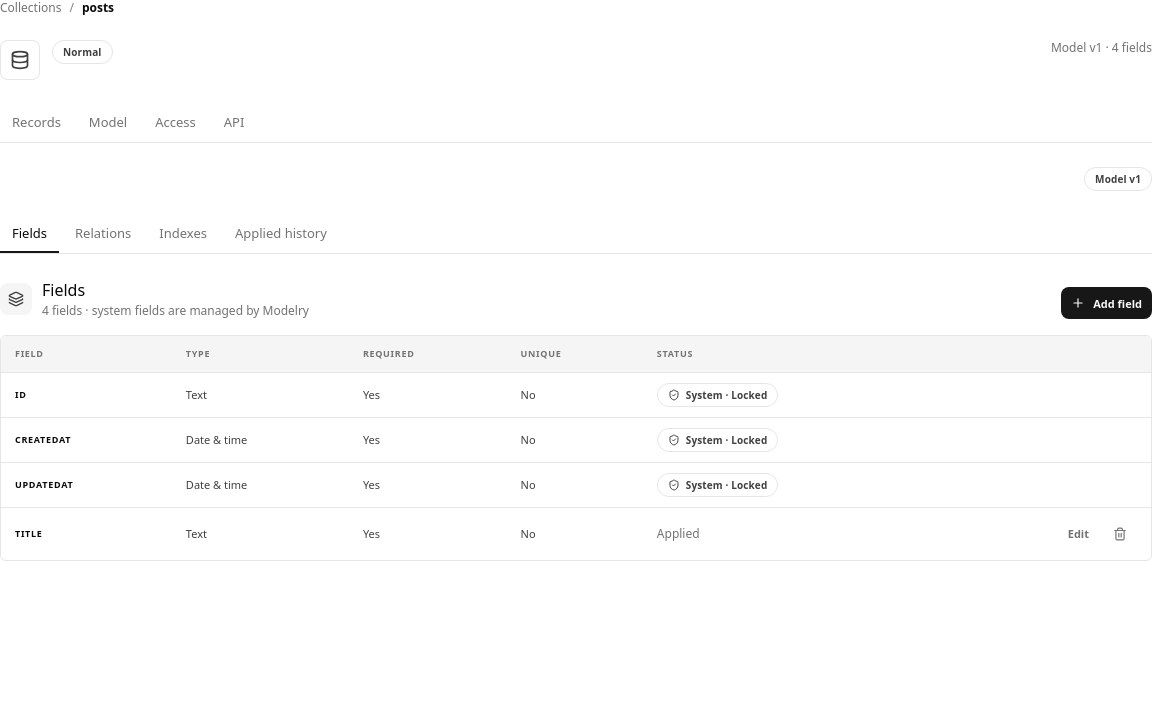
Collection schema workflow › keeps system Fields locked, stages a durable edit, previews risk in place, and applies it
Check: the text "System · Locked" is shown 3 times, box [657,383,778,407]; [657,428,778,452]; [657,473,778,497]
Step 1. Click the button "Add field" → (1107, 303), box [1061,287,1151,319]
(page scrolled)
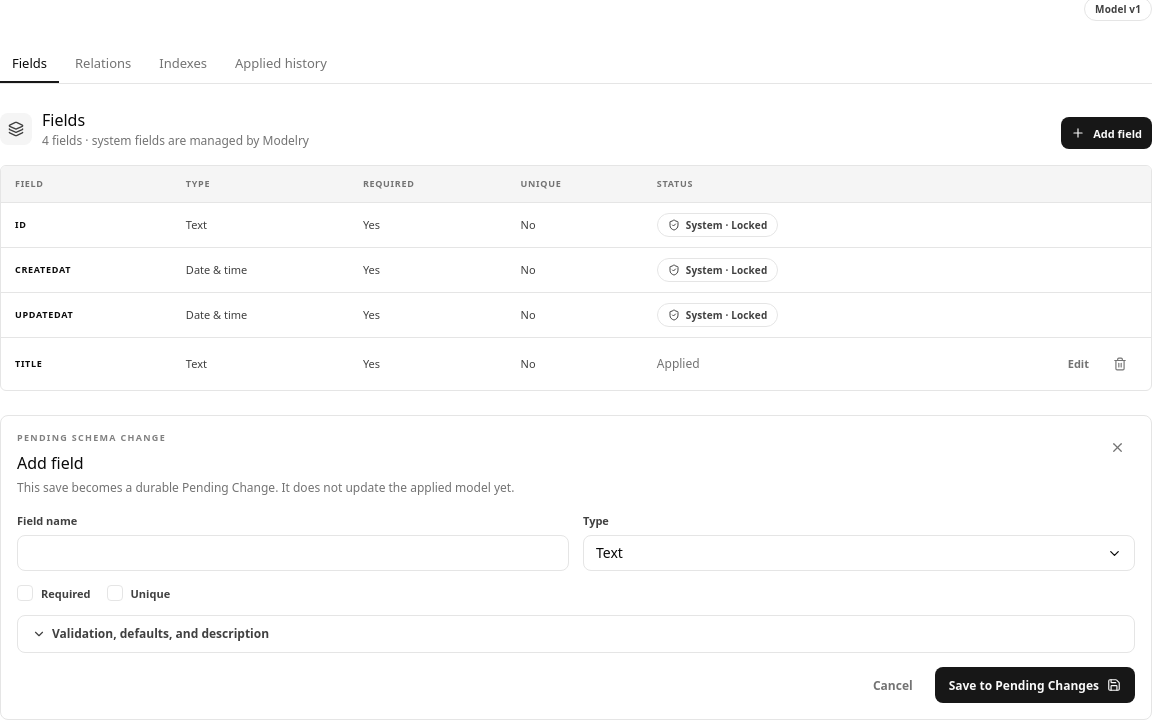
Step 2. Type "subtitle" into the field labelled "Field name" → (293, 553), box [17,535,569,571]
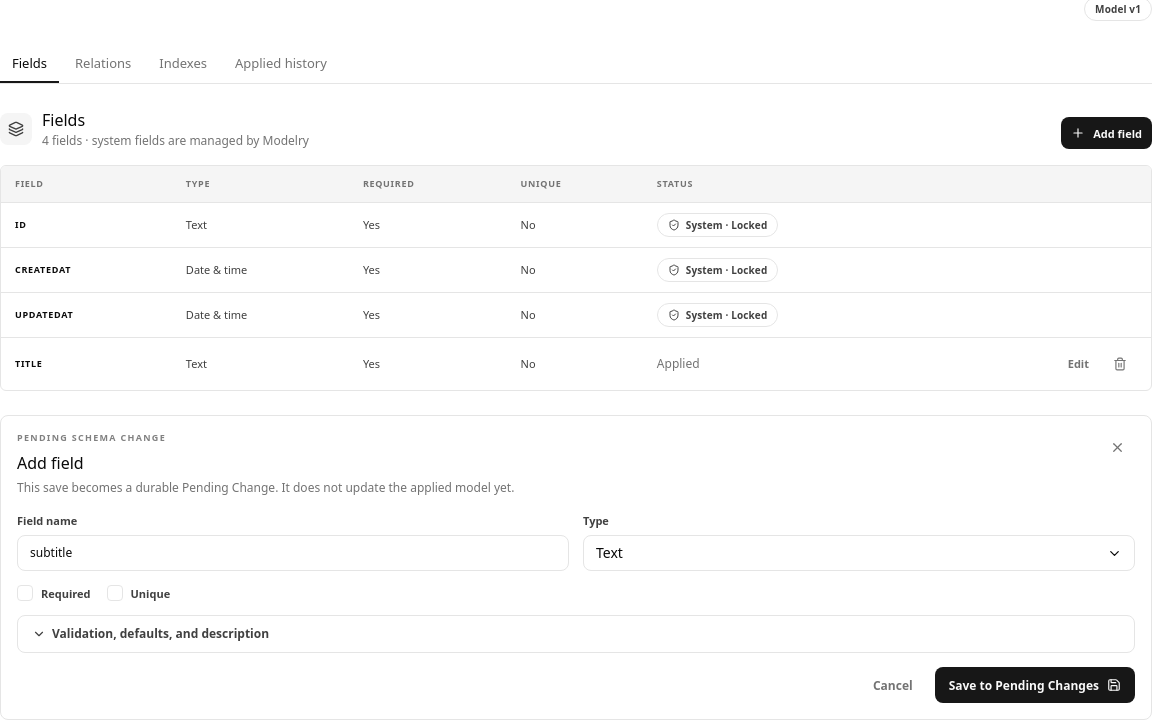
Step 3. Click the button "Save to Pending Changes" → (1035, 685), box [935,667,1135,703]
(page scrolled)
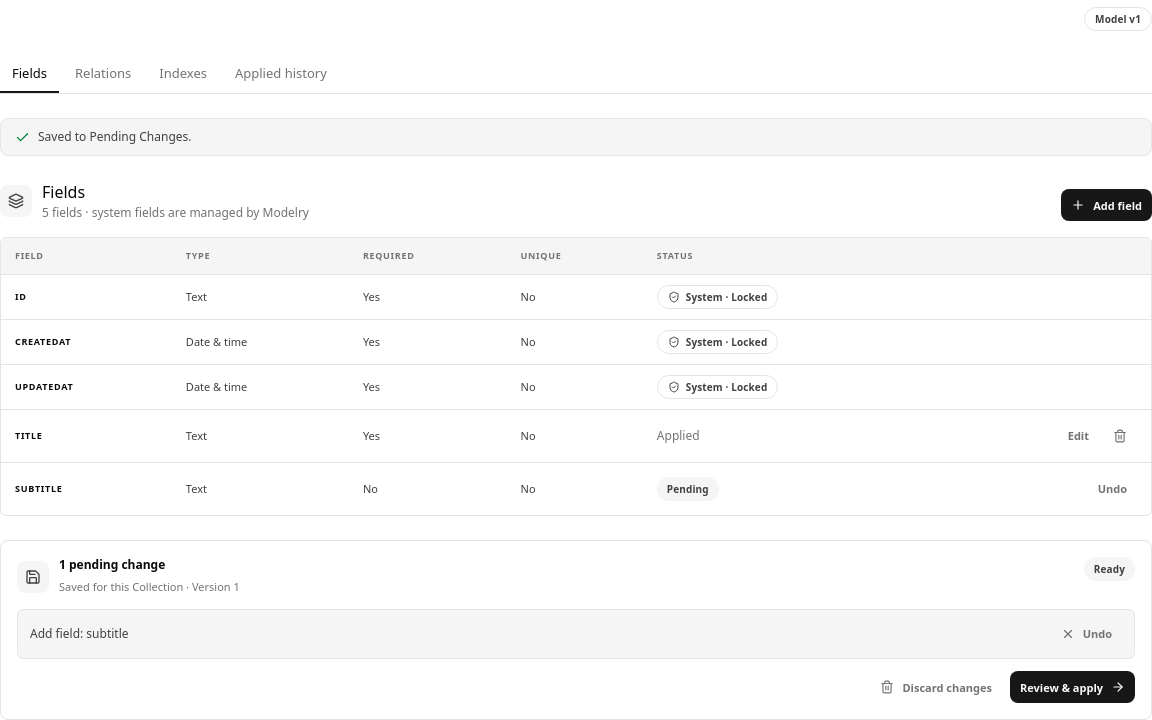
Check: the element named "Pending schema changes" shows "1 pending change", box [59,556,165,573]
Check: the column heading "subtitle" is shown, box [1,462,172,515]
Step 4. Click the button "Review & apply" → (1072, 687), box [1010,671,1135,703]
(page scrolled)
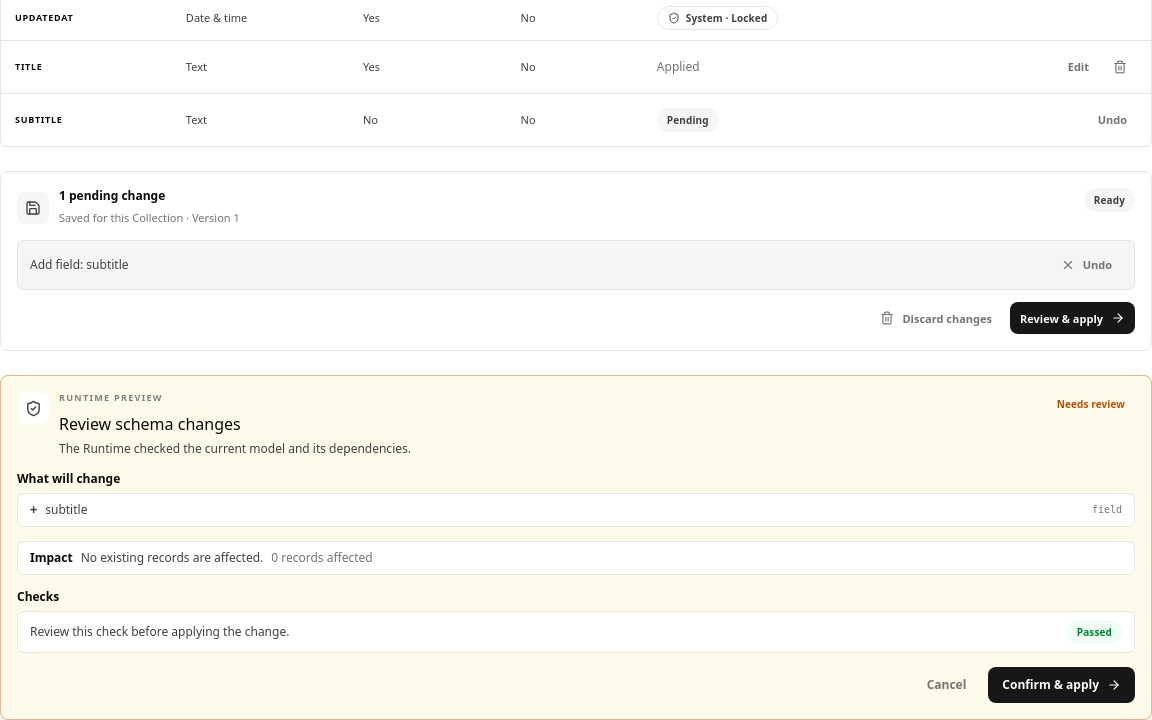
Check: the heading "Review schema changes" is shown, box [59,413,241,435]
Check: the text "No existing records are affected." is shown, box [81,550,263,566]
Step 5. Click the button "Confirm & apply" → (1062, 685), box [988,667,1135,703]
(page scrolled)
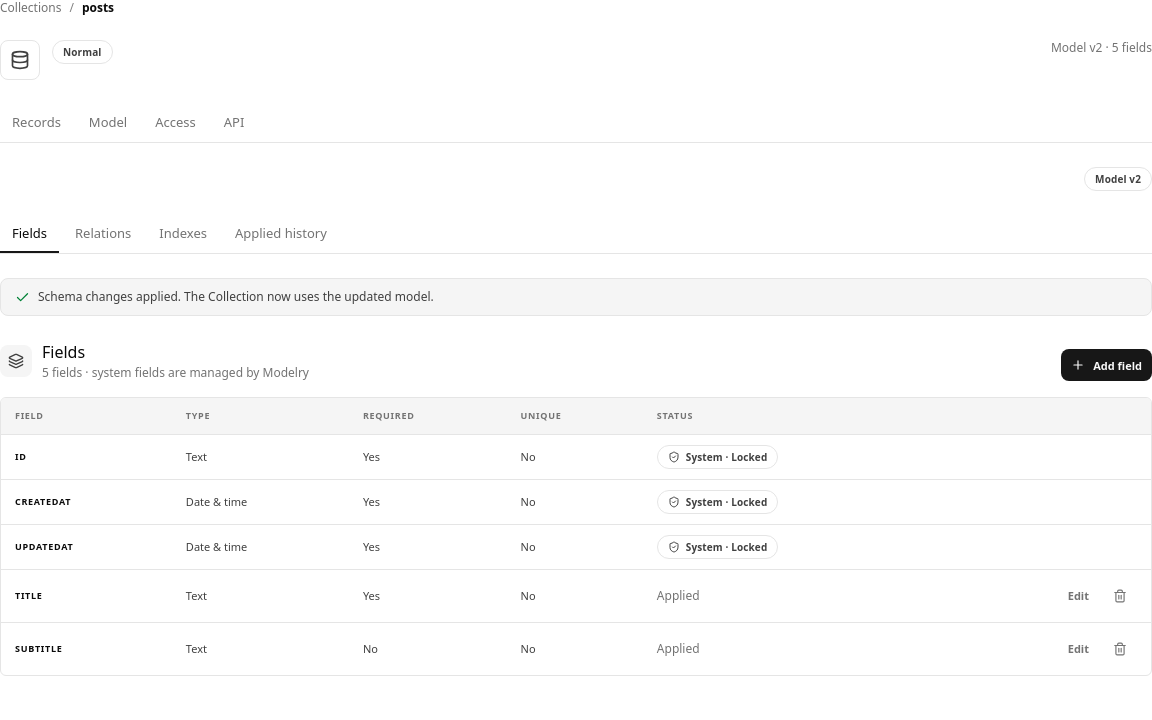
Check: the text "Schema changes applied. The Collection now uses the updated model." is shown, box [0,278,1151,316]
Step 6. Click the button "Applied history" → (281, 234), box [223,215,339,253]
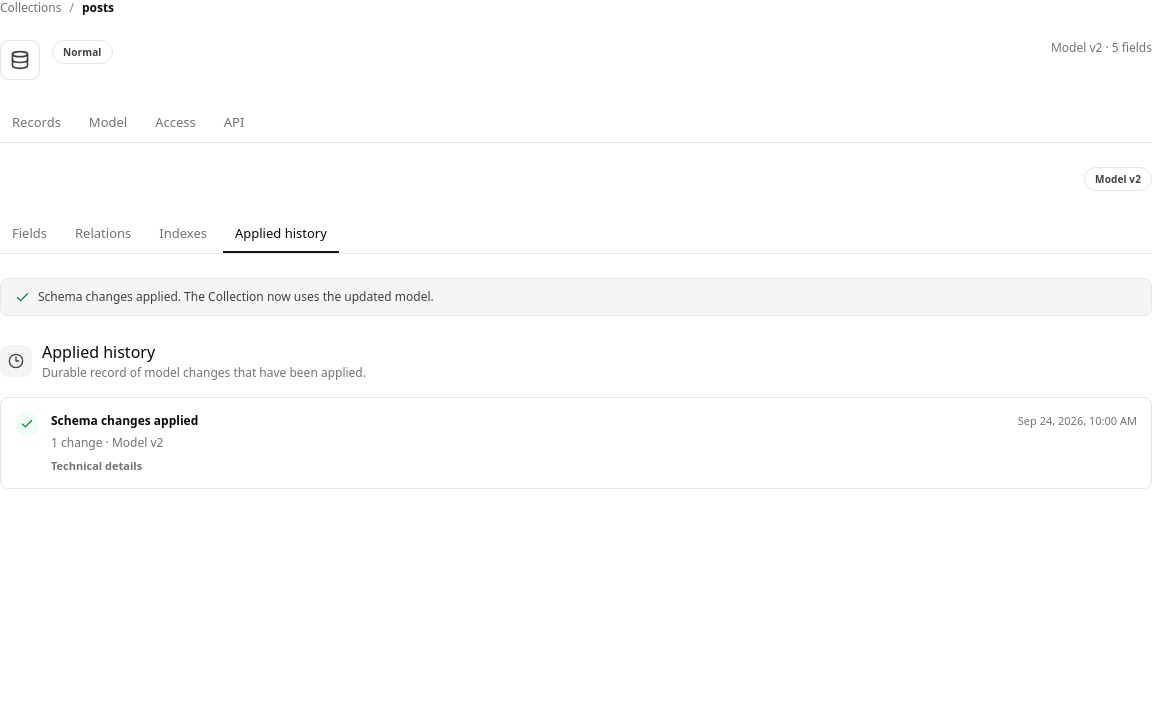
Check: the text "Schema changes applied" is shown, box [51,413,198,429]
Check: the button "Technical details" is shown, box [51,457,142,474]
